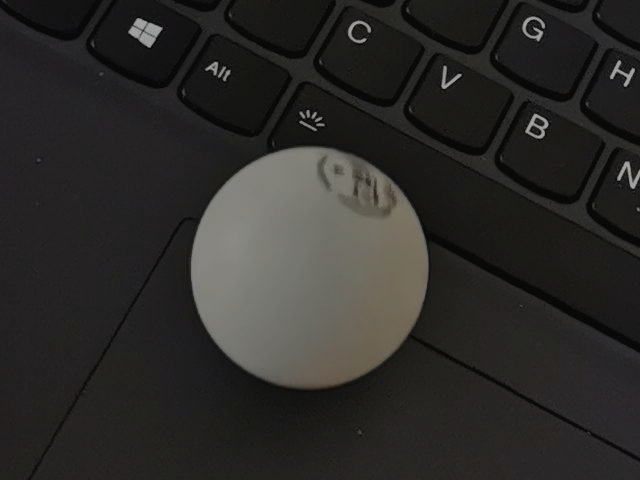ball: (191, 148, 429, 386)
